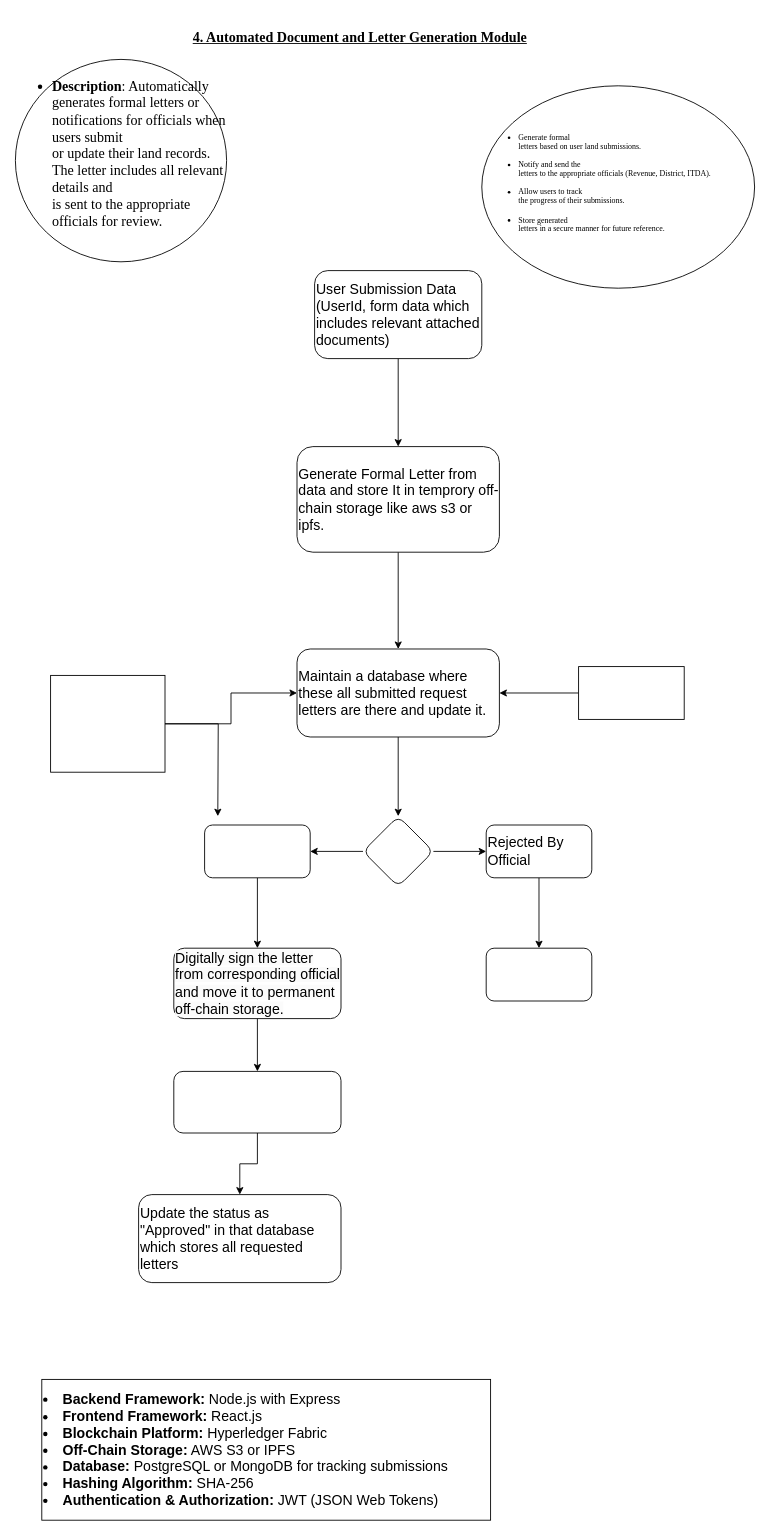
The diagram is 770 pixels wide and 1536 high, and some of its shapes have lost their labels. The centre of each missing label's shape, as x and y in pixels:
(requestID, letterID, userID, status, comment): (x=631, y=692)
Also which officer will get which request is decided by area (address): (x=107, y=723)
Approved By Official: (x=257, y=851)
Generate the Hash of that letter and Store Hash in Hyperledger Fabric: (x=257, y=1102)
Update Status "Rejected" on that database.: (x=538, y=974)
